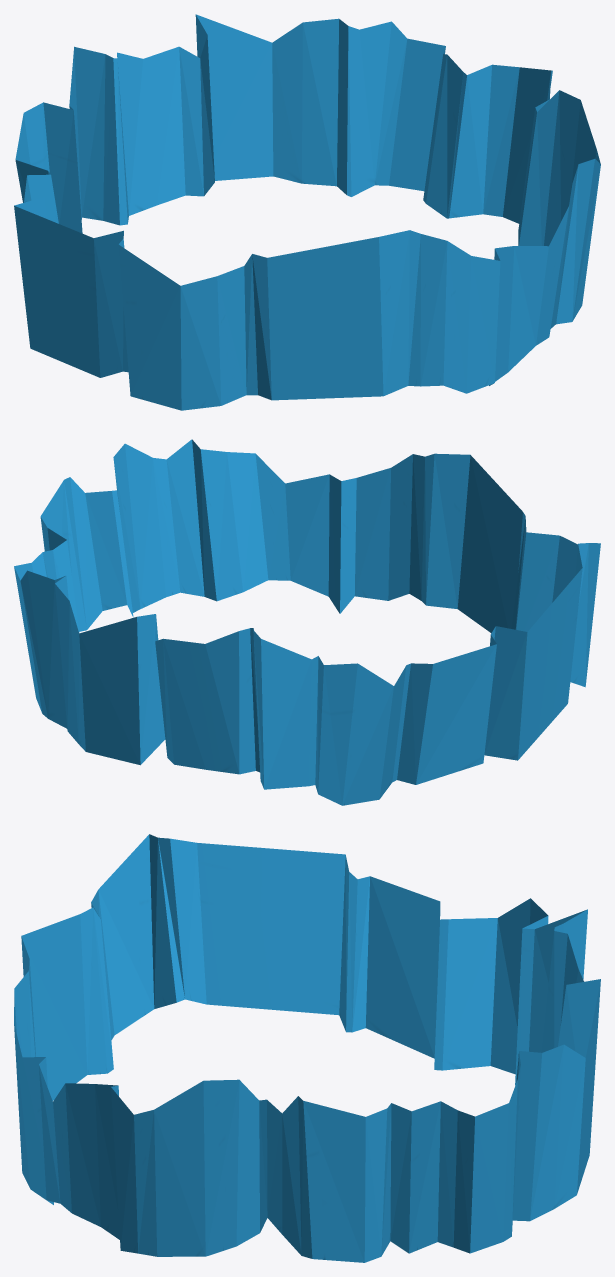
Rendered from Static_Mesh_ShockWave_1.fbx.
The picture shows the model from 3 angles, top to bottom: view 1: azimuth 30°, elevation 25°; view 2: azimuth 150°, elevation 25°; view 3: azimuth 270°, elevation 25°; orthographic projection. The views are drawn at different scales.
Visible parts, largest first — view 1: SK_BF_Skill07_AuraMesh.mo; view 2: SK_BF_Skill07_AuraMesh.mo; view 3: SK_BF_Skill07_AuraMesh.mo.
Part boxes in pixels (<box>): SK_BF_Skill07_AuraMesh.mo: <box>14,14,600,410</box>; SK_BF_Skill07_AuraMesh.mo: <box>14,439,600,805</box>; SK_BF_Skill07_AuraMesh.mo: <box>14,834,600,1262</box>.
Bounding box in the file's own units: 7.43 × 2.69 × 6.81.
Materials: 1 (1 with a texture image).
